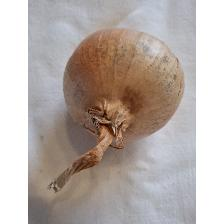Zwiebel: (60, 25, 187, 170)
